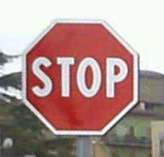stop: (23, 19, 138, 135)
